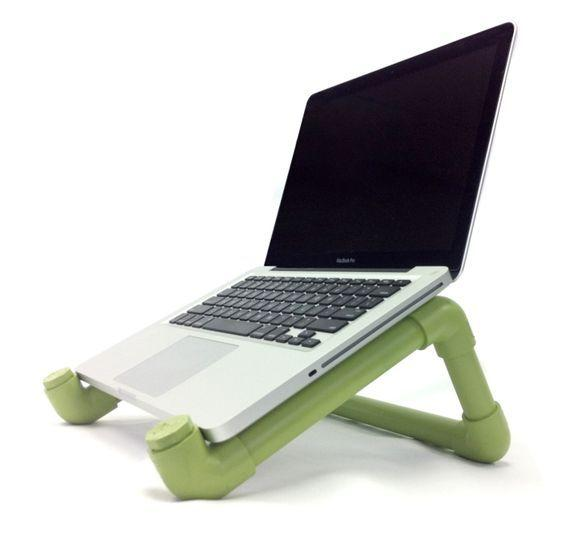PVC: (142, 295, 511, 503), (41, 366, 120, 425)
